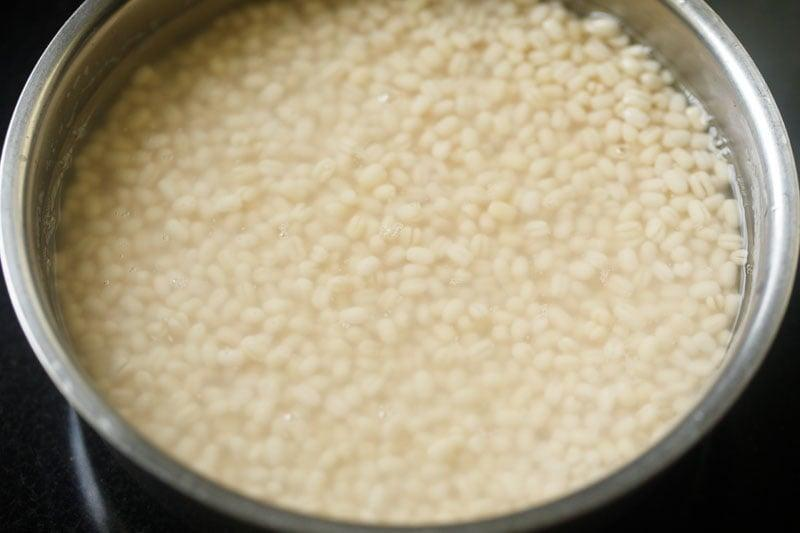rice: (157, 56, 640, 437)
